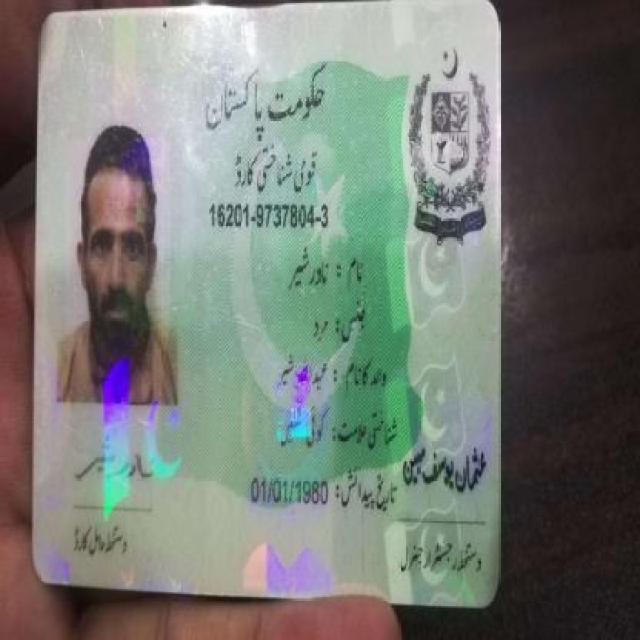Front: (25, 8, 503, 610)
